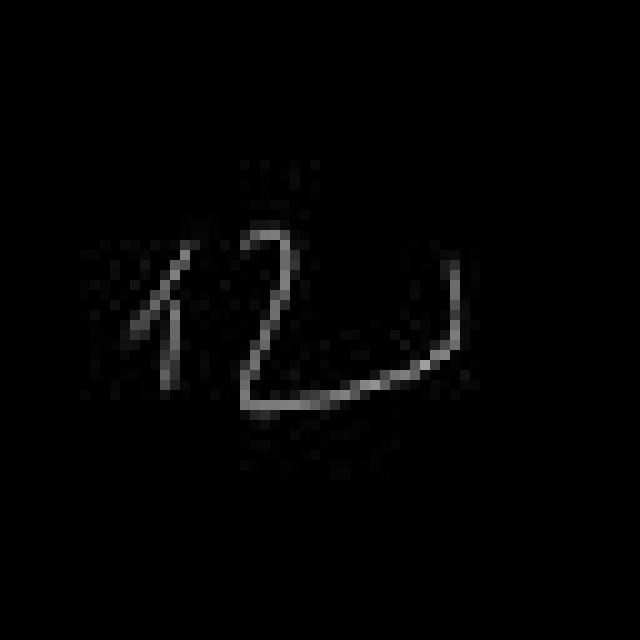100000 -a hundred thousand-: (118, 216, 476, 424)
